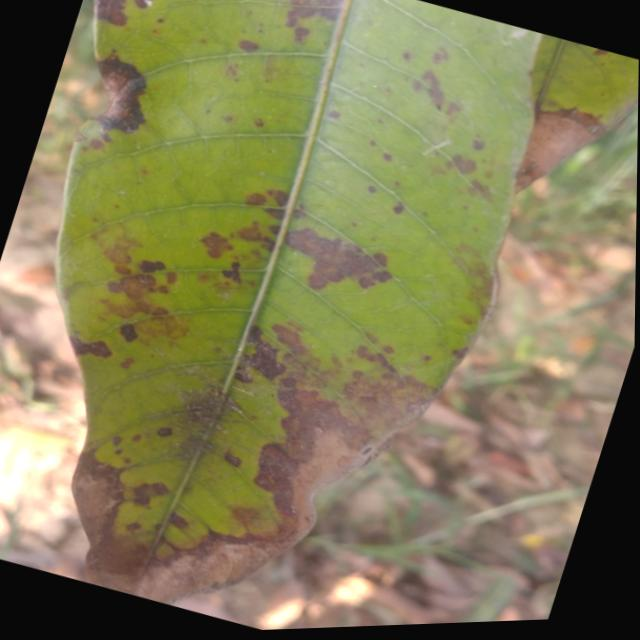Anthracnose: (383, 42, 532, 190), (255, 311, 430, 431), (270, 215, 394, 302)
Bacterial Cancer: (291, 424, 371, 531), (172, 530, 261, 612), (74, 57, 149, 137), (59, 466, 123, 546), (82, 0, 135, 28)
black die: (68, 333, 113, 363), (289, 0, 338, 24), (115, 321, 139, 345)
